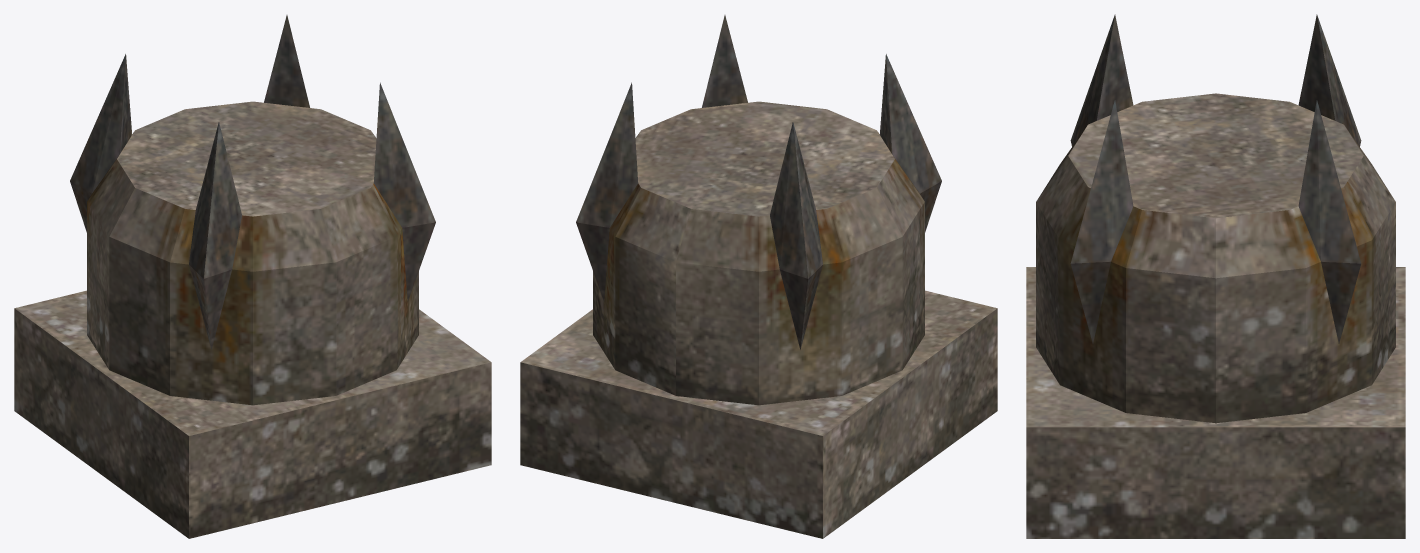
File: bg_lut_lutomb_structure08a_sm_old.FBX
The picture shows the model from 3 angles, left to right: view 1: azimuth 30°, elevation 25°; view 2: azimuth 150°, elevation 25°; view 3: azimuth 270°, elevation 25°; orthographic projection. The views are drawn at different scales.
Parts seen in each view (by area): view 1: bg_lut_lutomb_structure08a_sm_old; view 2: bg_lut_lutomb_structure08a_sm_old; view 3: bg_lut_lutomb_structure08a_sm_old.
Boxes of the visible parts, x1=… form: bg_lut_lutomb_structure08a_sm_old: x1=14, y1=15, x2=491, y2=538; bg_lut_lutomb_structure08a_sm_old: x1=520, y1=15, x2=997, y2=538; bg_lut_lutomb_structure08a_sm_old: x1=1026, y1=14, x2=1405, y2=538.
Size of the model in its own units: 54.45 by 63.72 by 54.45.
